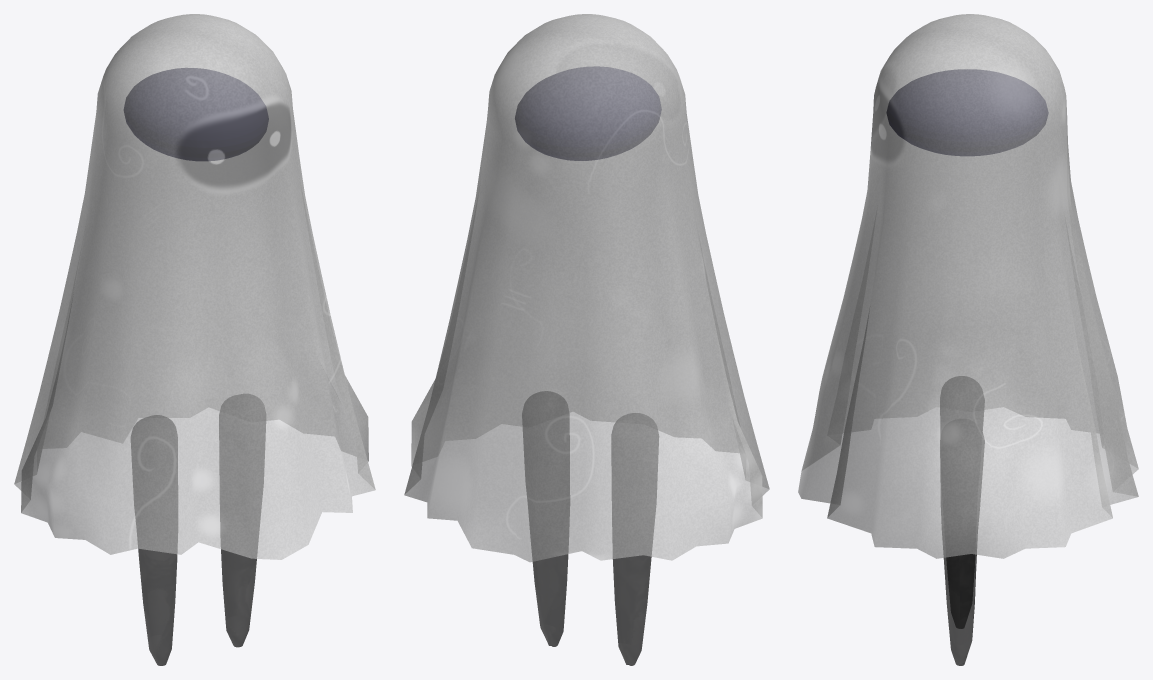
File: fantasmaAnim.glb
3 renders of one model, left to right at view 1: azimuth 30°, elevation 25°; view 2: azimuth 150°, elevation 25°; view 3: azimuth 270°, elevation 25°, orthographic. The views are drawn at different scales.
Visible parts, largest first — view 1: tela, Cabeza, Pierna2, Pierna1; view 2: tela, Cabeza, Pierna2, Pierna1; view 3: tela, Cabeza, Pierna2, Pierna1.
Part boxes in pixels (<box>): tela: <box>14,14,375,559</box>; Cabeza: <box>124,68,268,160</box>; Pierna2: <box>219,394,265,647</box>; Pierna1: <box>131,415,177,665</box>; tela: <box>404,14,769,562</box>; Cabeza: <box>515,66,661,160</box>; Pierna2: <box>522,391,569,646</box>; Pierna1: <box>611,413,658,665</box>; tela: <box>798,14,1138,558</box>; Cabeza: <box>886,69,1048,155</box>; Pierna2: <box>940,419,984,665</box>; Pierna1: <box>940,376,984,628</box>.
Bounding box in the file's own units: 2.8 × 5.34 × 2.65.
3 materials, 2 textured.
